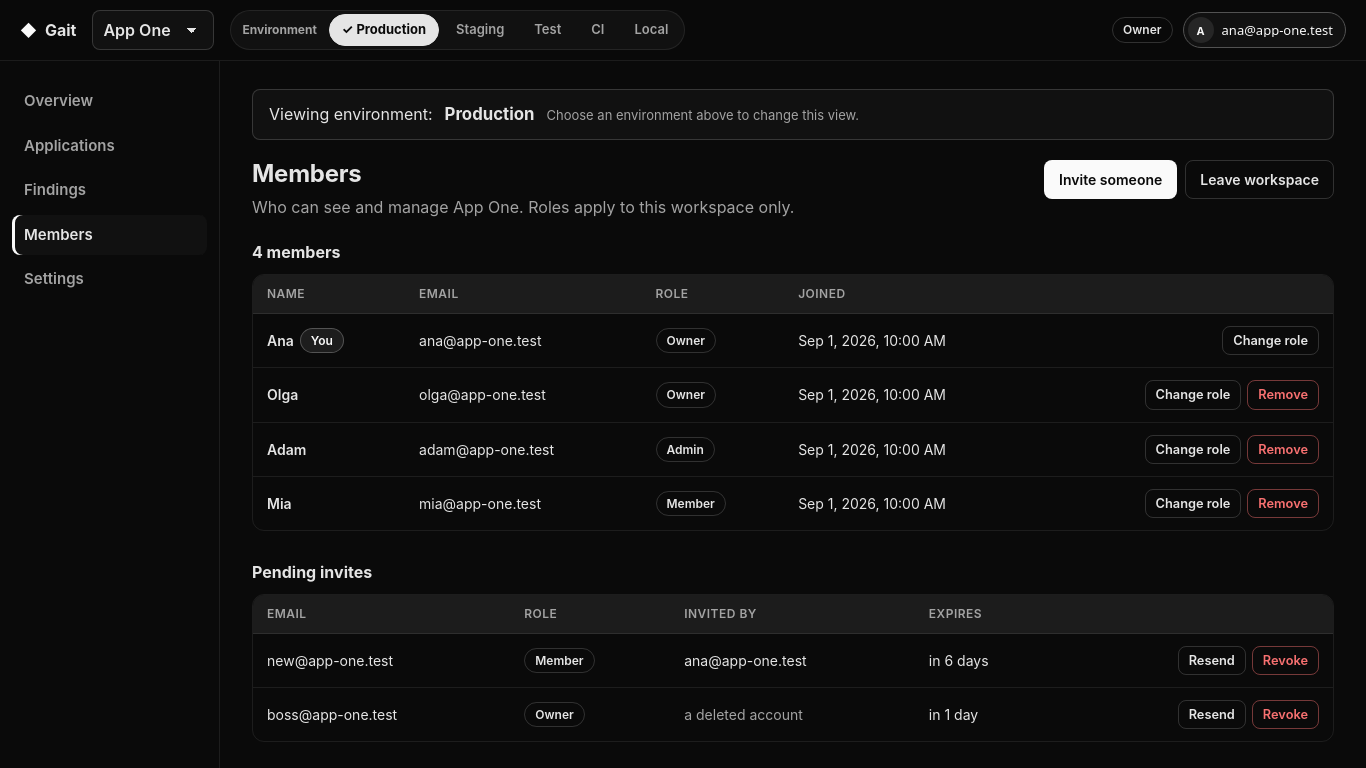
it: F4 members list and role gating › an Owner changes a role, and Gait's LAST_OWNER refusal explains how to hand over
Click the button named "Change role for Olga". click: (1193, 395)
box: [1145,380,1241,410]
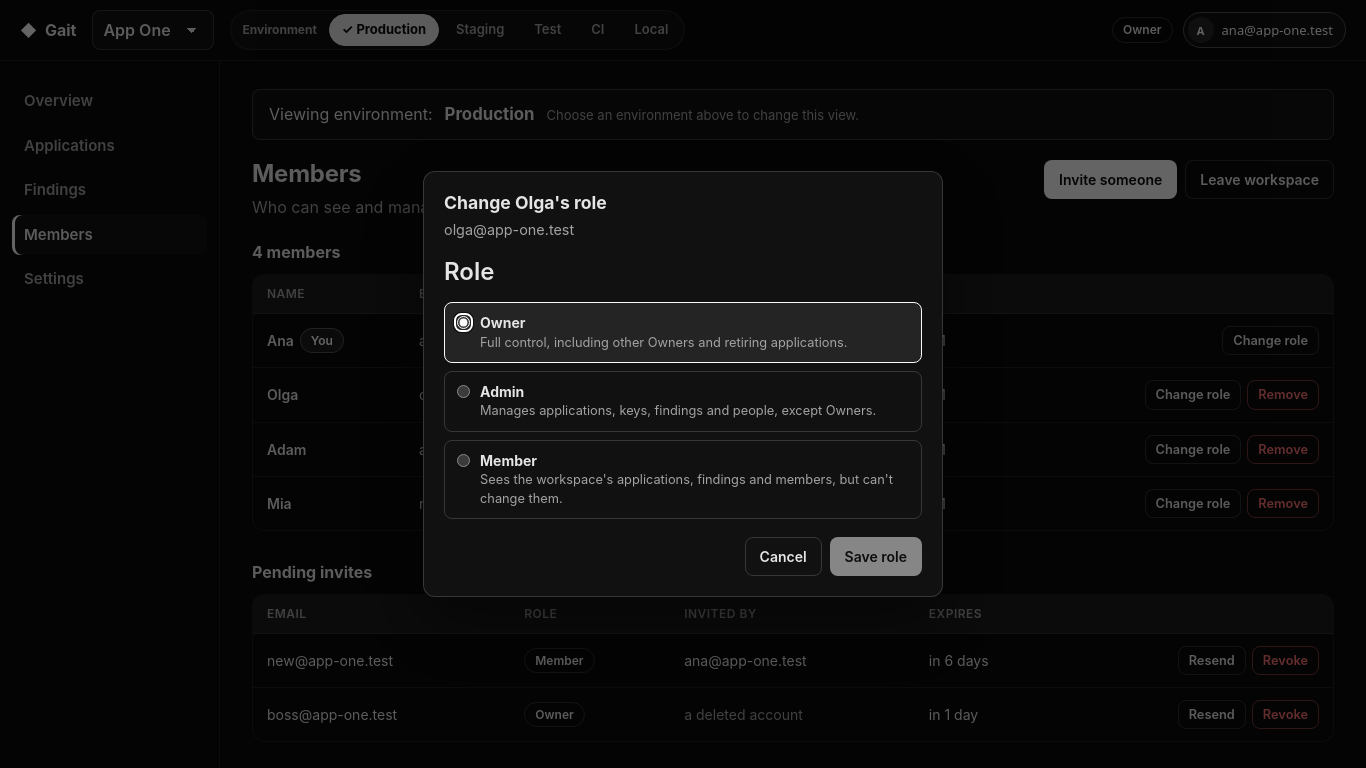
Click the radio button labelled "Admin". click: (464, 392)
box: [457,385,470,398]
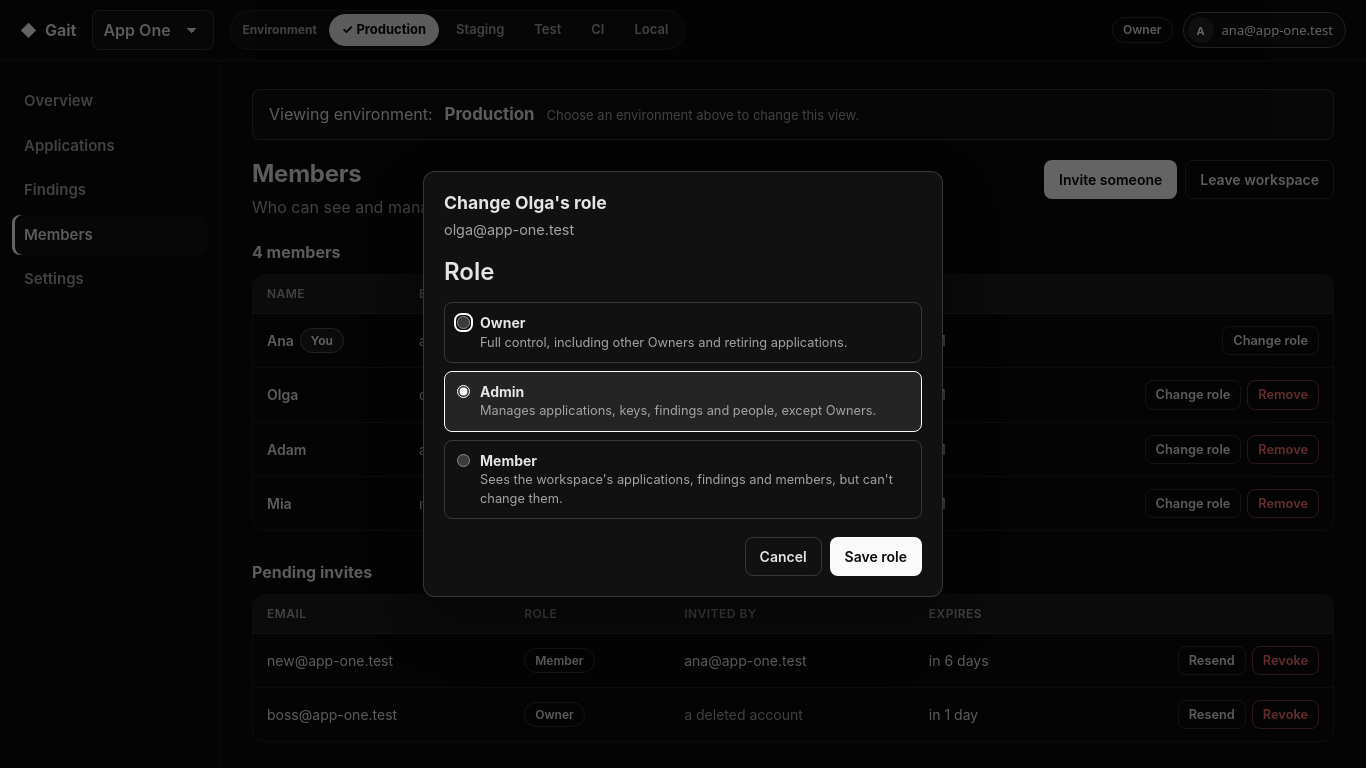
Click the button "Save role". click: (876, 557)
box: [830,537,922,576]
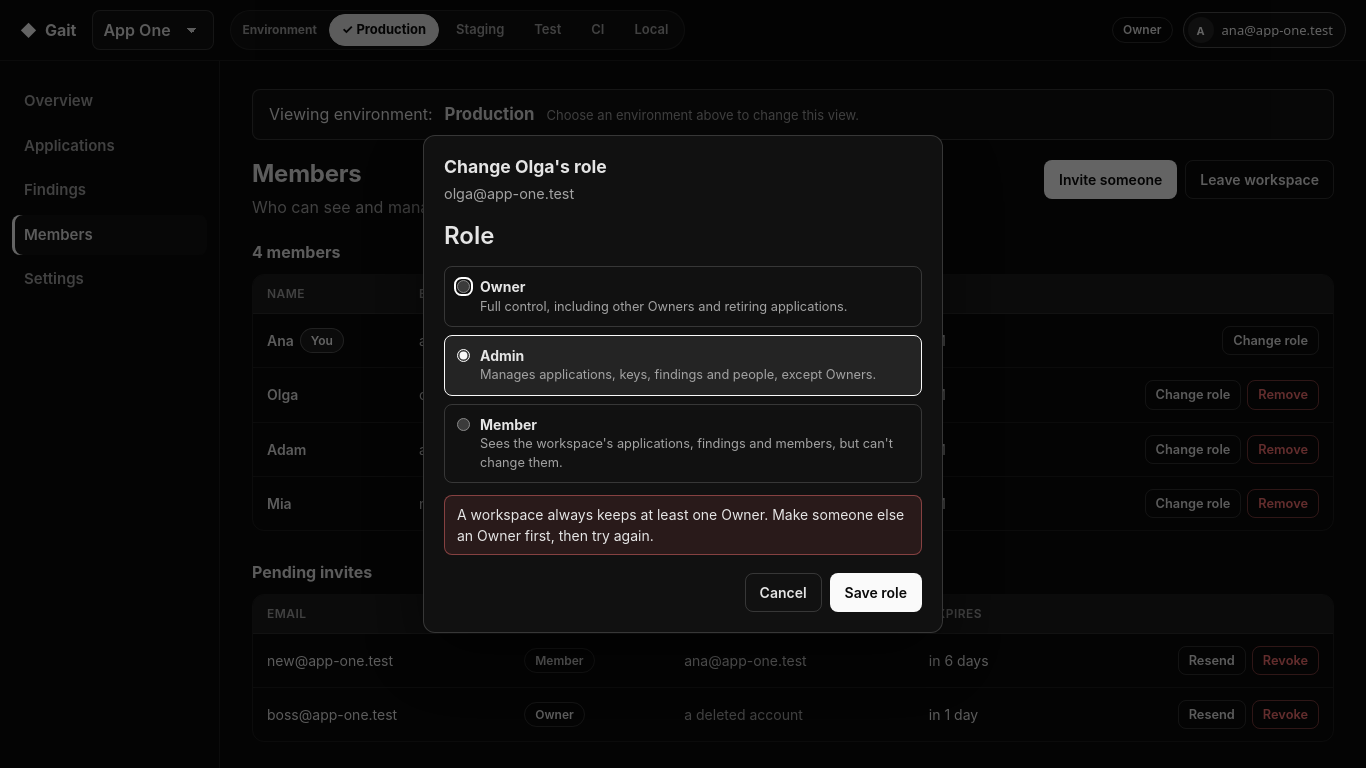
Result: the message shows "Make someone else an Owner first" at [457,506,904,544]
